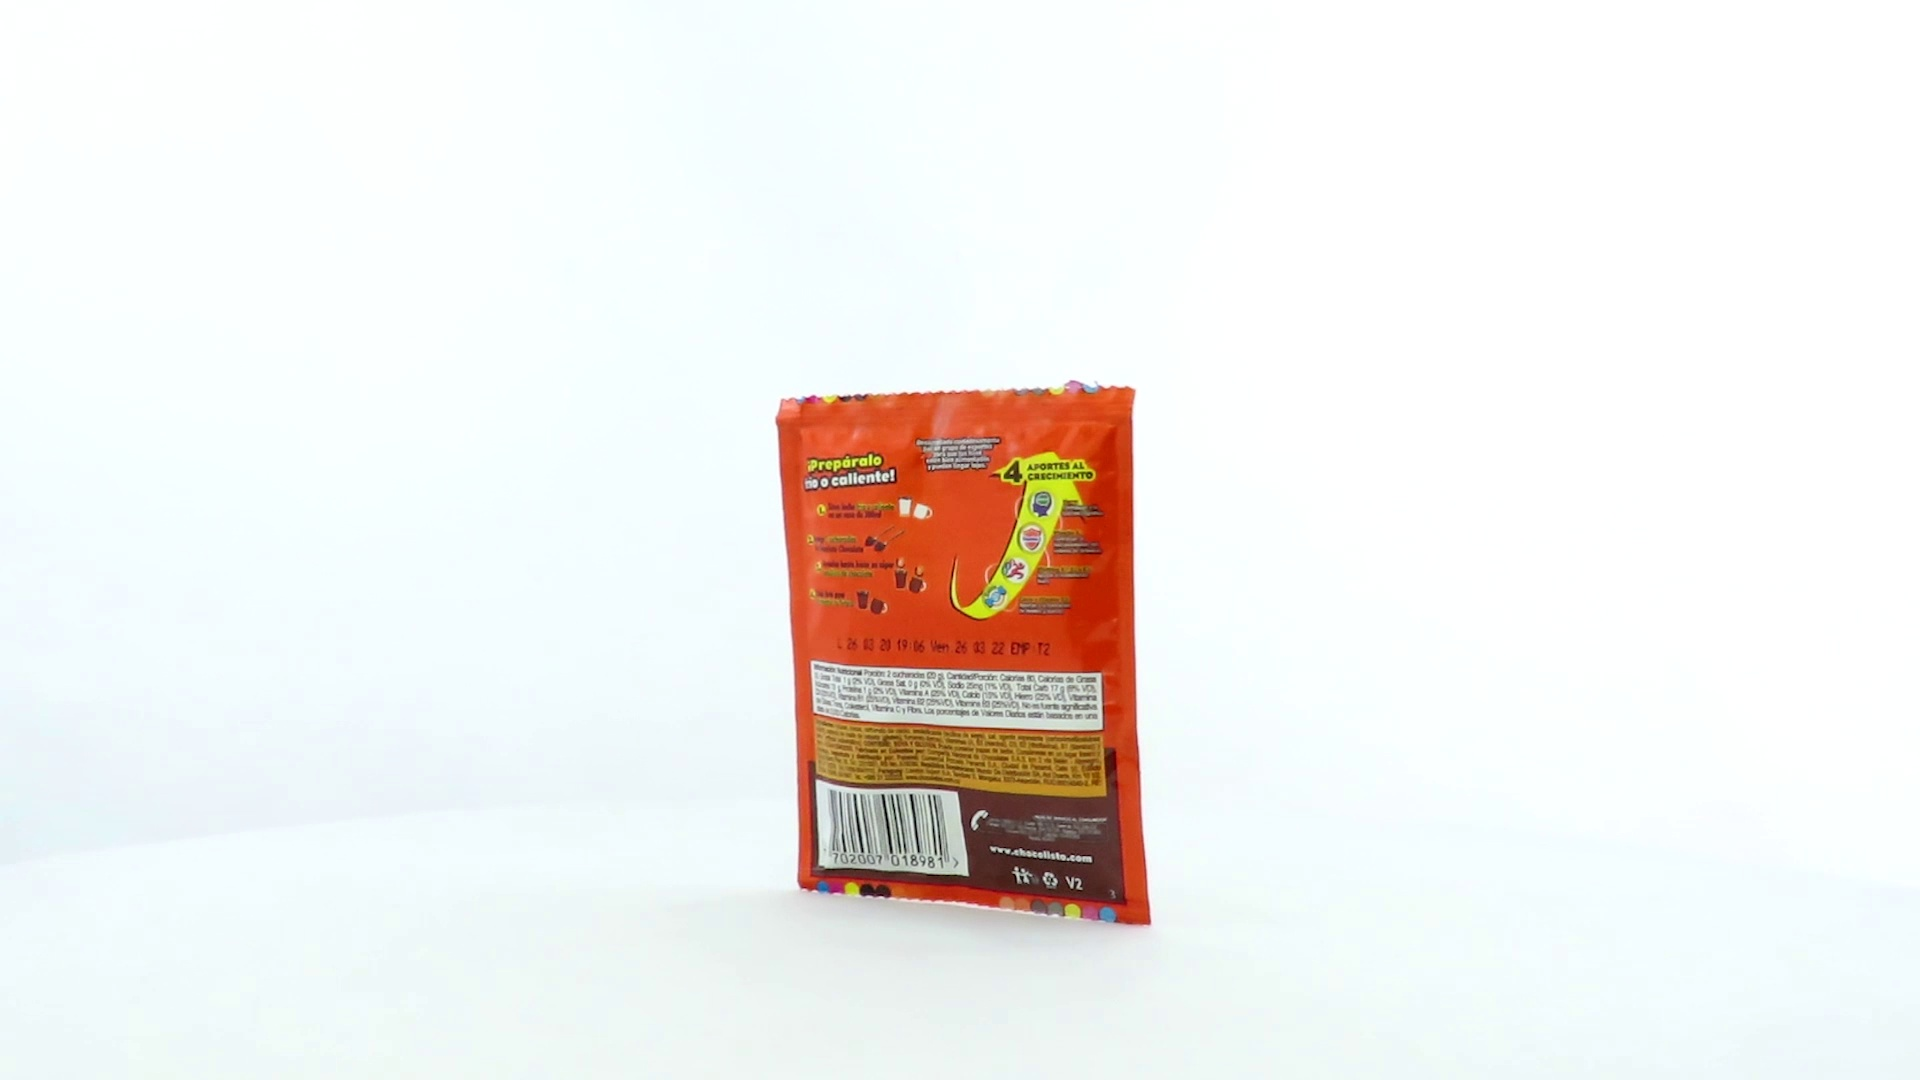COL0170103SOB02000: (770, 375, 1156, 932)
